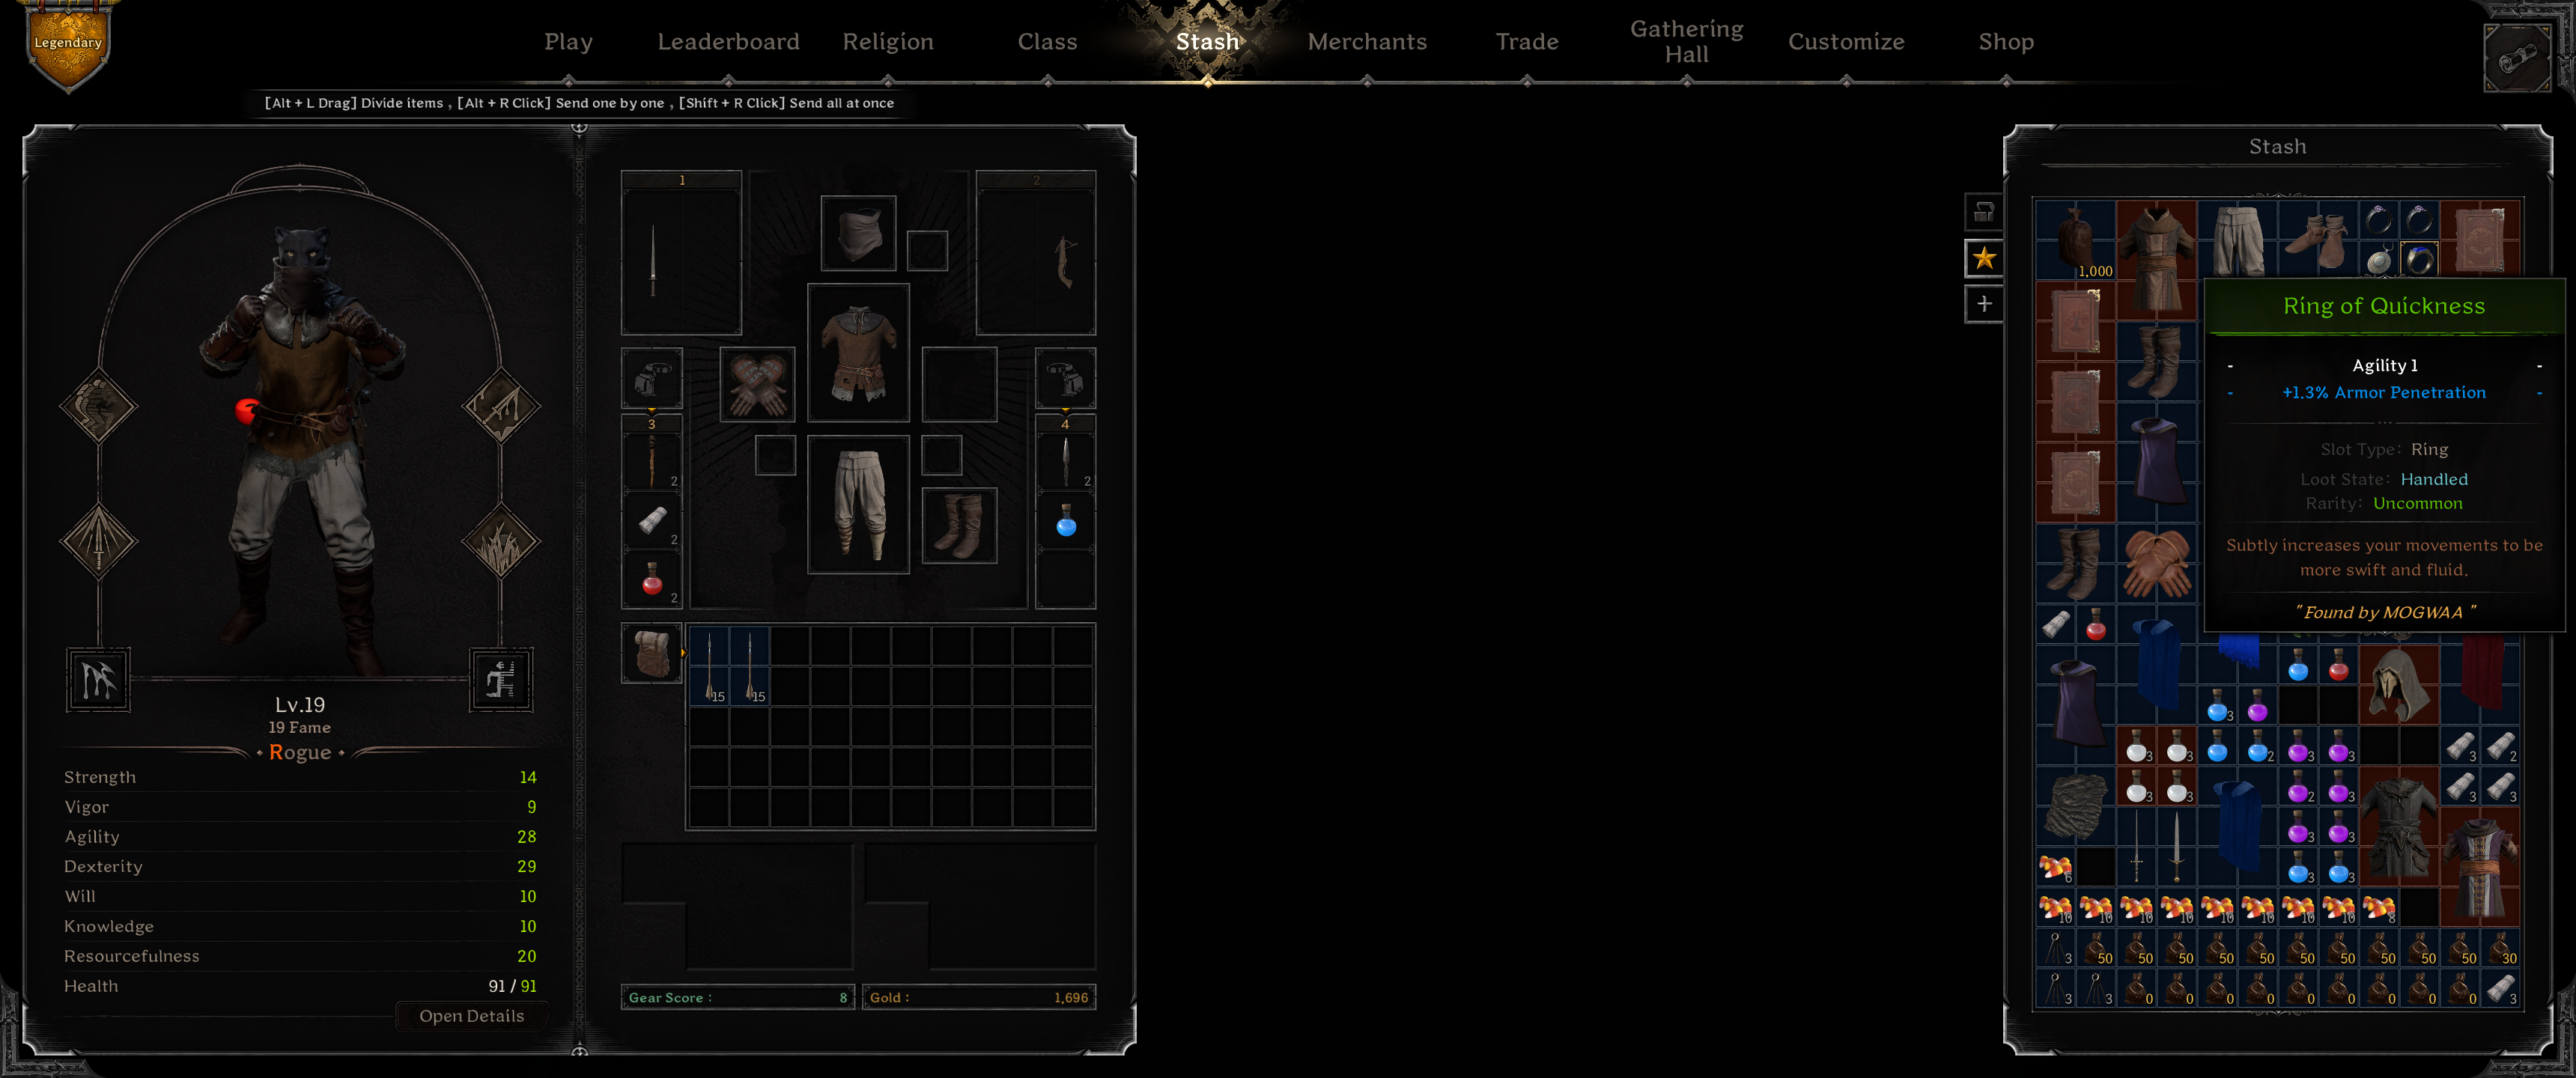Tooltip: (2203, 276, 2566, 633)
